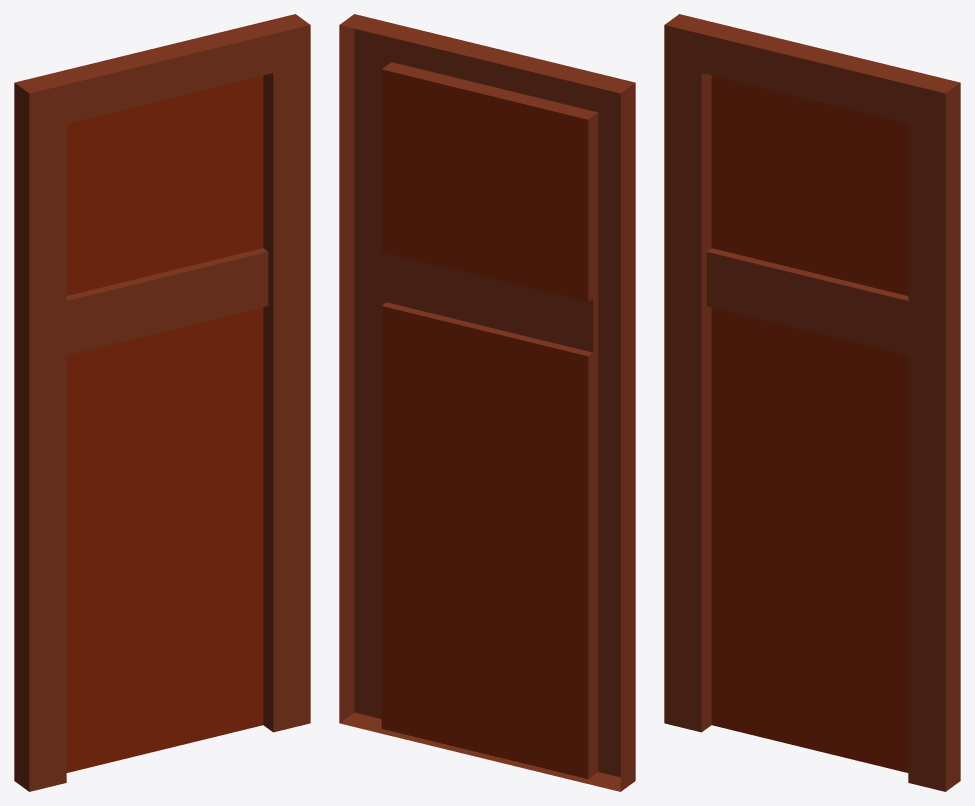
Rendered from BasicDoor.fbx.
3 renders of one model, left to right at view 1: azimuth 30°, elevation 25°; view 2: azimuth 150°, elevation 25°; view 3: azimuth 330°, elevation 25°, orthographic.
Parts seen in each view (by area): view 1: door; view 2: door; view 3: door.
Boxes of the visible parts, x1=… form: door: x1=14, y1=14, x2=310, y2=791; door: x1=339, y1=14, x2=635, y2=791; door: x1=664, y1=14, x2=960, y2=791.
Bounding box in the file's own units: 3.26 × 7.74 × 0.3.
